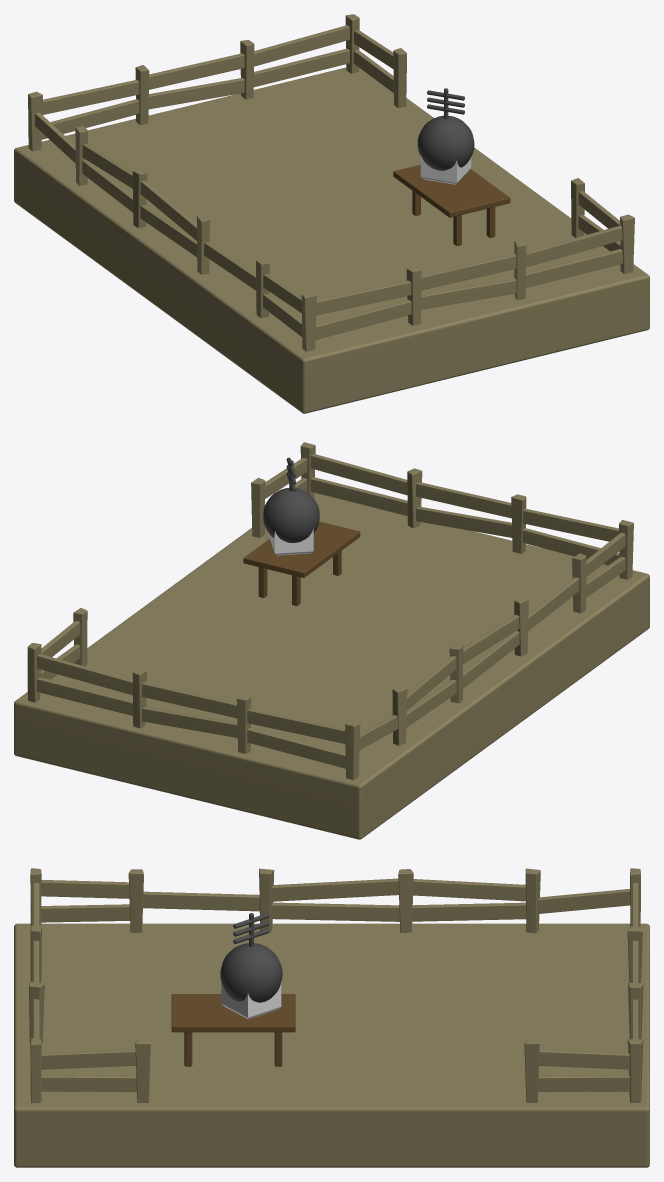
File: Stage_W_Machine.fbx
3 views of the same model, one above another, from view 1: azimuth 30°, elevation 25°; view 2: azimuth 150°, elevation 25°; view 3: azimuth 270°, elevation 25° (orthographic). The views are drawn at different scales.
Visible parts, largest first — view 1: Stage, machine, Table; view 2: Stage, Table, machine; view 3: Stage, machine, Table.
Part boxes in pixels (box(x1,y1,x2,y2)): Stage: box(14, 14, 649, 413); machine: box(417, 88, 474, 184); Table: box(393, 165, 510, 245); Stage: box(14, 442, 649, 839); Table: box(243, 521, 360, 605); machine: box(263, 457, 319, 555); Stage: box(14, 868, 649, 1167); machine: box(220, 913, 282, 1019); Table: box(171, 994, 295, 1066).
Bounding box in the file's own units: 6.6 × 3.37 × 9.55.
